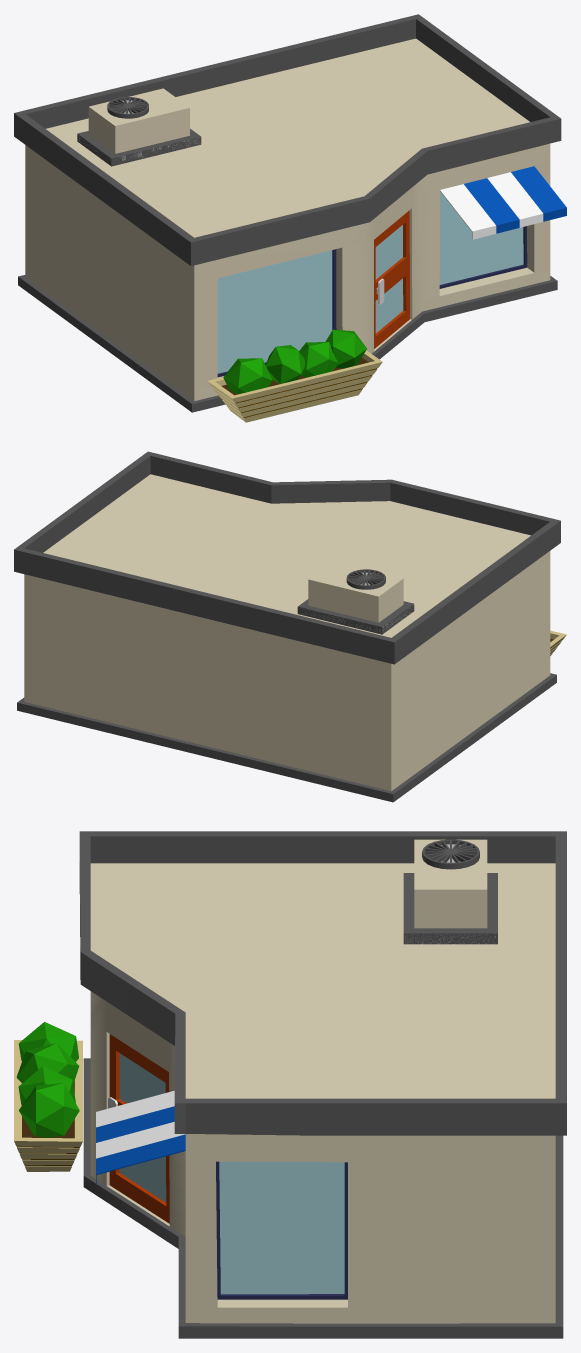
The model's file is Tienda.fbx.
The picture shows the model from 3 angles, top to bottom: view 1: azimuth 30°, elevation 25°; view 2: azimuth 150°, elevation 25°; view 3: azimuth 270°, elevation 25°; orthographic projection. The views are drawn at different scales.
Visible parts, largest first — view 1: pCube1, pCube5, pCube3, pPlatonic3, pPlatonic4, pPlatonic1, pPlatonic2; view 2: pCube1, pCube5; view 3: pCube1, pCube5, pCube3, pPlatonic1, pPlatonic4, pPlatonic3, pPlatonic2.
Part boxes in pixels (box(x1,y1,x2,y2)): pCube1: box(14, 14, 566, 412); pCube5: box(77, 88, 201, 166); pCube3: box(207, 350, 382, 422); pPlatonic3: box(223, 358, 272, 393); pPlatonic4: box(265, 345, 304, 383); pPlatonic1: box(325, 329, 366, 368); pPlatonic2: box(299, 342, 338, 377); pCube1: box(14, 451, 560, 802); pCube5: box(297, 561, 414, 634); pCube1: box(79, 831, 566, 1338); pCube5: box(403, 839, 497, 944); pCube3: box(14, 1040, 82, 1171); pPlatonic1: box(19, 1083, 79, 1137); pPlatonic4: box(16, 1043, 79, 1083); pPlatonic3: box(18, 1022, 78, 1061); pPlatonic2: box(18, 1066, 75, 1105).
Size of the model in its own units: 1711 by 789 by 1470.
